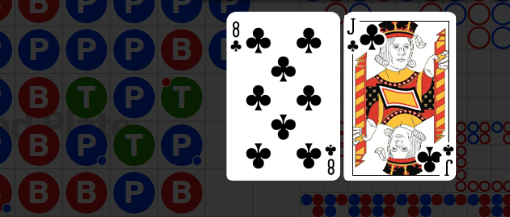8C: (229, 20, 243, 54)
JC: (441, 143, 456, 177)
